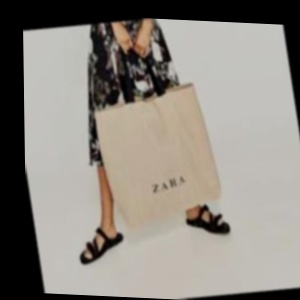zara: (139, 93, 260, 250)
